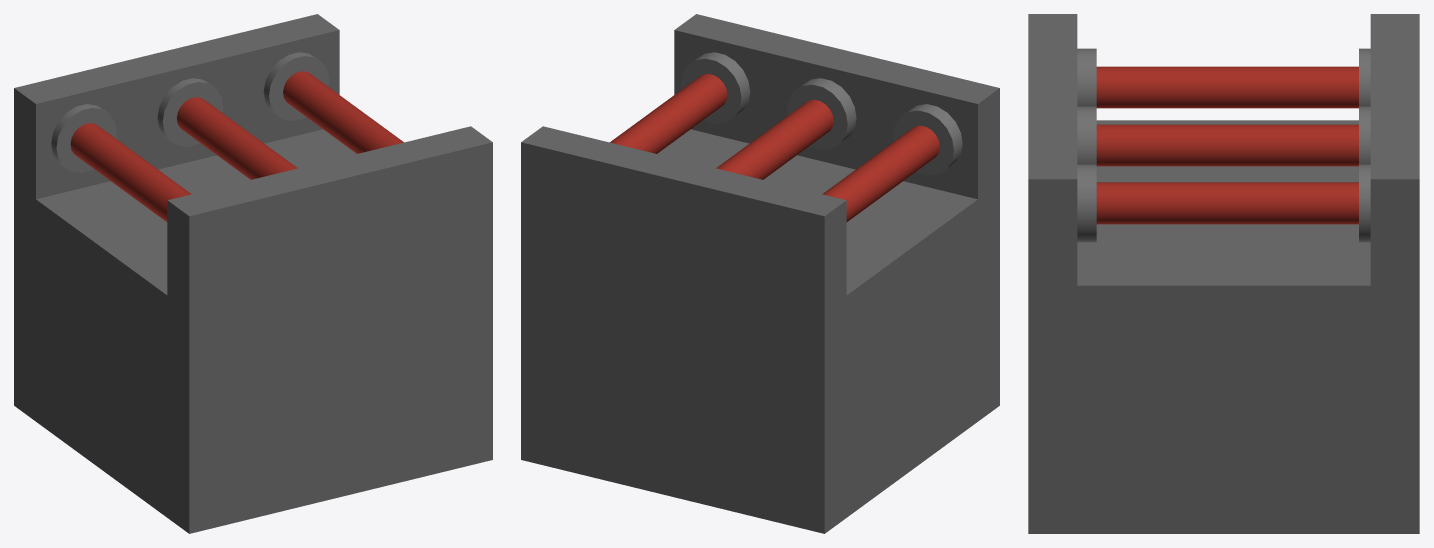
File: Laser.fbx
3 renders of one model, left to right at view 1: azimuth 30°, elevation 25°; view 2: azimuth 150°, elevation 25°; view 3: azimuth 270°, elevation 25°, orthographic. The views are drawn at different scales.
Parts seen in each view (by area): view 1: LaserTile, Laser, Cylinder006; view 2: LaserTile, Laser, Cylinder006; view 3: LaserTile, Laser, Cylinder006.
Boxes of the visible parts, x1,y1,x2,y2 form: LaserTile: (14, 14, 492, 533); Laser: (70, 71, 403, 221); Cylinder006: (51, 52, 329, 172); LaserTile: (521, 14, 999, 533); Laser: (610, 73, 939, 221); Cylinder006: (681, 52, 962, 175); LaserTile: (1028, 14, 1419, 533); Laser: (1096, 66, 1358, 224); Cylinder006: (1077, 48, 1370, 242).
Size of the model in its own units: 5 by 5 by 5.
